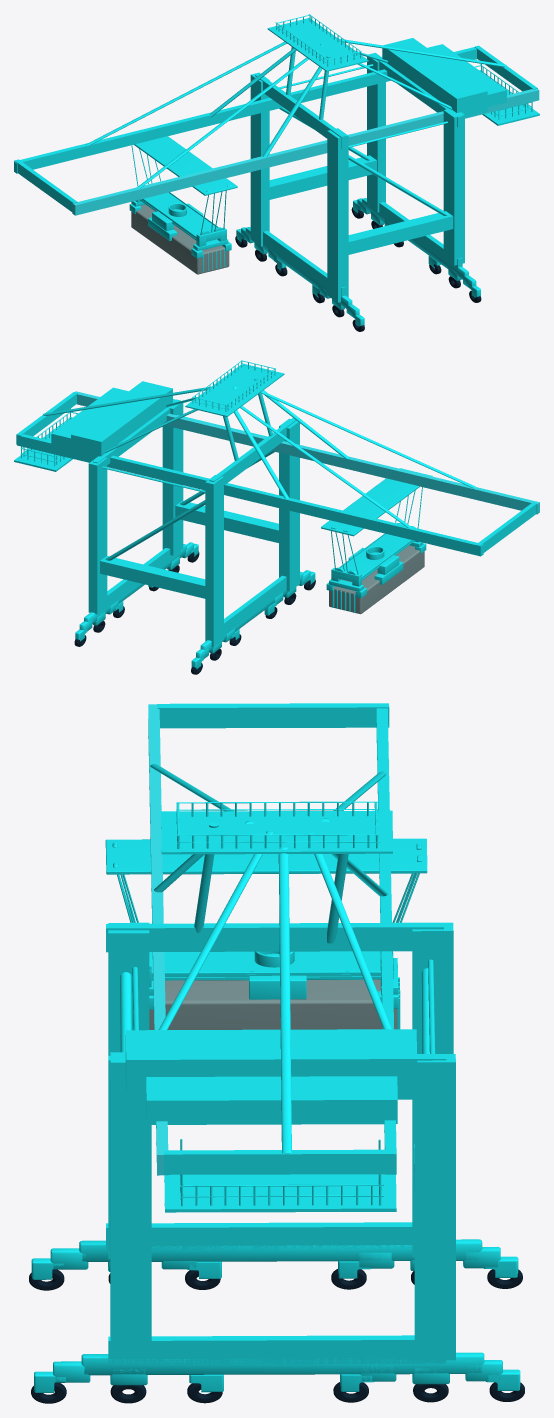
Rendered from anqiao_draco.gltf.
3 renders of one model, top to bottom at view 1: azimuth 30°, elevation 25°; view 2: azimuth 150°, elevation 25°; view 3: azimuth 270°, elevation 25°, orthographic. The views are drawn at different scales.
Parts seen in each view (by area): view 1: 立方体_1, 立方体.2_2, 立方体.1_1, 立方体.9_3, 立方体.22, 立方体.8_3, 立方体.6_4, 立方体.4_2, 立方体.3_1, 立方体.27, 立方体, 立方体_2 (+17 smaller); view 2: 立方体.2_2, 立方体_1, 立方体.1_1, 立方体.8_3, 立方体.27, 立方体.9_3, 立方体.22, 立方体.6_4, 立方体_2, 立方体.4_2, 立方体, 立方体.3_1 (+17 smaller); view 3: 立方体.1_1, 立方体.27, 立方体.2_1, 立方体.22, 立方体.6_4, 立方体.4_2, 立方体.26, 立方体.6_3, 立方体.7_3, 立方体.10_1, 立方体, 立方体.4_3 (+15 smaller).
Part boxes in pixels (x1=…): 立方体_1: x1=72, y1=89, x2=539, y2=215; 立方体.2_2: x1=14, y1=47, x2=477, y2=173; 立方体.1_1: x1=382, y1=38, x2=487, y2=117; 立方体.9_3: x1=327, y1=128, x2=348, y2=302; 立方体.22: x1=443, y1=108, x2=464, y2=265; 立方体.8_3: x1=250, y1=72, x2=269, y2=246; 立方体.6_4: x1=267, y1=18, x2=368, y2=71; 立方体.4_2: x1=131, y1=204, x2=229, y2=274; 立方体.3_1: x1=348, y1=211, x2=453, y2=254; 立方体.27: x1=367, y1=52, x2=385, y2=212; 立方体: x1=134, y1=136, x2=237, y2=195; 立方体_2: x1=269, y1=155, x2=376, y2=199; 立方体.2_2: x1=17, y1=434, x2=483, y2=556; 立方体_1: x1=75, y1=391, x2=539, y2=514; 立方体.1_1: x1=71, y1=381, x2=172, y2=460; 立方体.8_3: x1=205, y1=475, x2=223, y2=647; 立方体.27: x1=88, y1=456, x2=107, y2=614; 立方体.9_3: x1=279, y1=418, x2=299, y2=591; 立方体.22: x1=162, y1=399, x2=183, y2=555; 立方体.6_4: x1=185, y1=363, x2=284, y2=416; 立方体_2: x1=100, y1=556, x2=205, y2=598; 立方体.4_2: x1=329, y1=545, x2=424, y2=614; 立方体: x1=321, y1=468, x2=432, y2=536; 立方体.3_1: x1=175, y1=500, x2=278, y2=542; 立方体.1_1: x1=125, y1=1029, x2=417, y2=1100; 立方体.27: x1=414, y1=1054, x2=455, y2=1360; 立方体.2_1: x1=146, y1=1076, x2=397, y2=1124; 立方体.22: x1=110, y1=1052, x2=151, y2=1356; 立方体.6_4: x1=161, y1=810, x2=392, y2=854; 立方体.4_2: x1=149, y1=979, x2=397, y2=1029; 立方体.26: x1=108, y1=1335, x2=446, y2=1364; 立方体.6_3: x1=164, y1=1174, x2=396, y2=1212; 立方体.7_3: x1=106, y1=922, x2=443, y2=952; 立方体.10_1: x1=106, y1=1222, x2=412, y2=1251; 立方体: x1=105, y1=838, x2=427, y2=874; 立方体.4_3: x1=164, y1=1149, x2=395, y2=1174.
Size of the model in its own units: 47.98 by 24.07 by 22.15.
